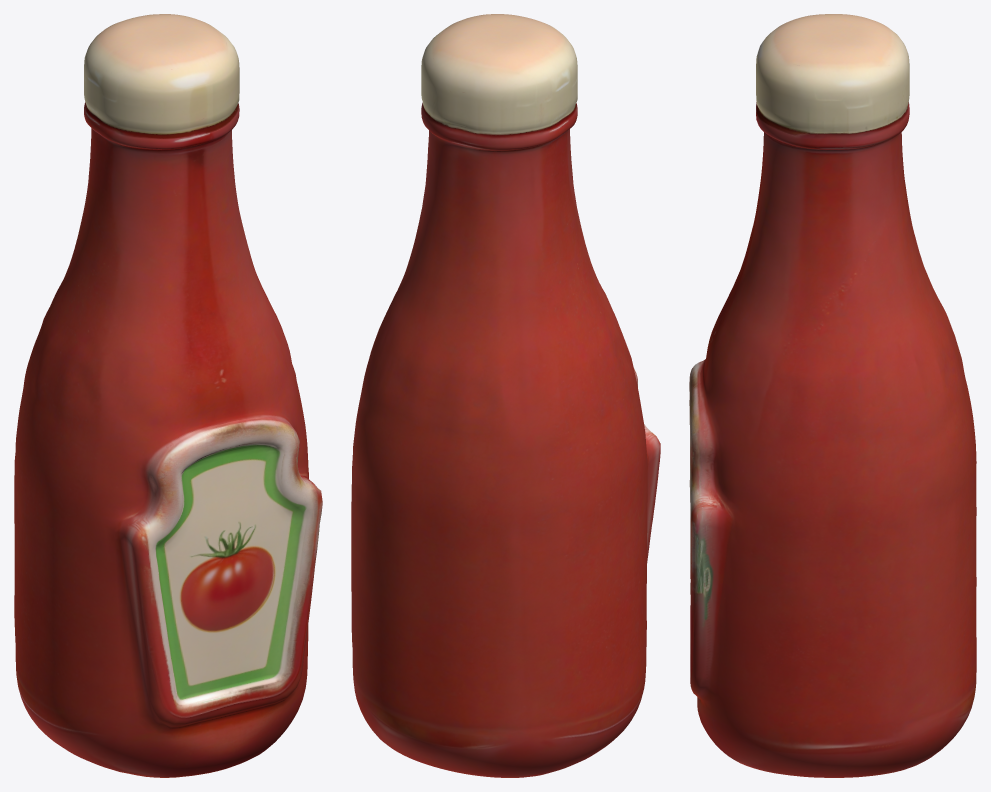
File: Ketchup_Bottle_Clipar.fbx
The picture shows the model from 3 angles, left to right: view 1: azimuth 30°, elevation 25°; view 2: azimuth 150°, elevation 25°; view 3: azimuth 270°, elevation 25°; orthographic projection.
Visible parts, largest first — view 1: Mesh0; view 2: Mesh0; view 3: Mesh0.
Part boxes in pixels (left/top/right/bottom): Mesh0: left=14, top=14, right=322, bottom=777; Mesh0: left=351, top=14, right=660, bottom=777; Mesh0: left=689, top=14, right=976, bottom=777.
Bounding box in the file's own units: 70.35 × 191 × 70.19.
1 material, 1 textured.
